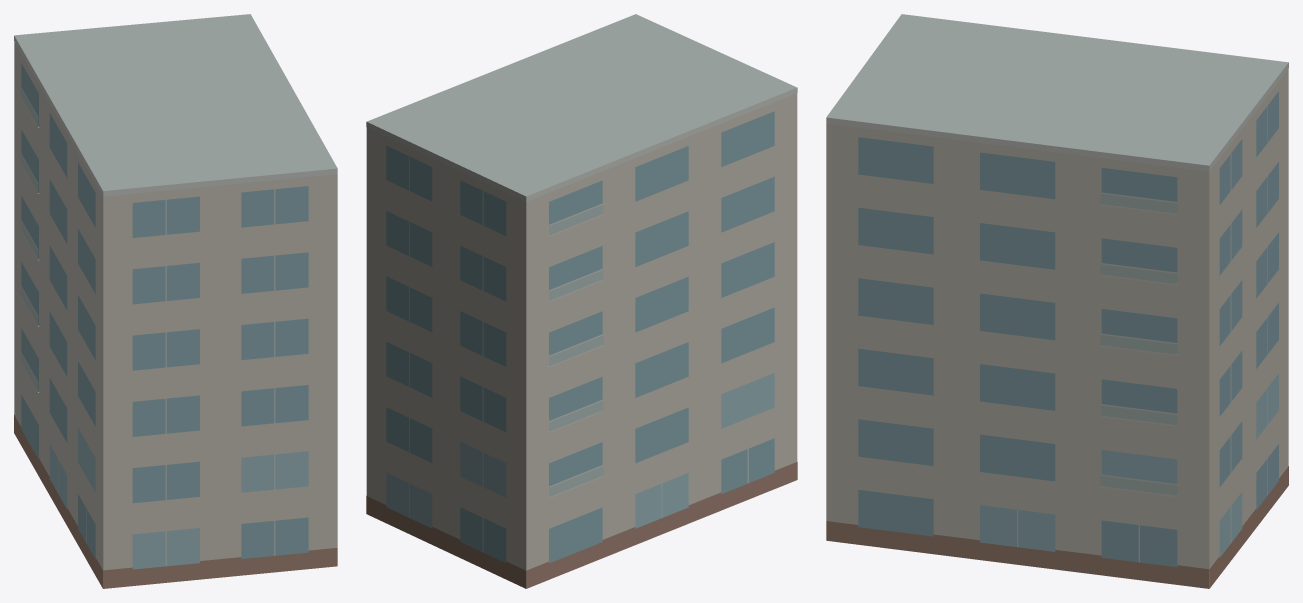
Rendered from survey-upis-32880512.glb.
The picture shows the model from 3 angles, left to right: view 1: azimuth 30°, elevation 25°; view 2: azimuth 150°, elevation 25°; view 3: azimuth 270°, elevation 25°; orthographic projection. The views are drawn at different scales.
Parts seen in each view (by area): view 1: survey-upis-32880512.tmp; view 2: survey-upis-32880512.tmp; view 3: survey-upis-32880512.tmp.
Boxes of the visible parts, x1=… form: survey-upis-32880512.tmp: x1=14, y1=14, x2=337, y2=588; survey-upis-32880512.tmp: x1=366, y1=14, x2=797, y2=588; survey-upis-32880512.tmp: x1=826, y1=14, x2=1288, y2=588.
Size of the model in its own units: 13.31 by 17.3 by 17.15.
